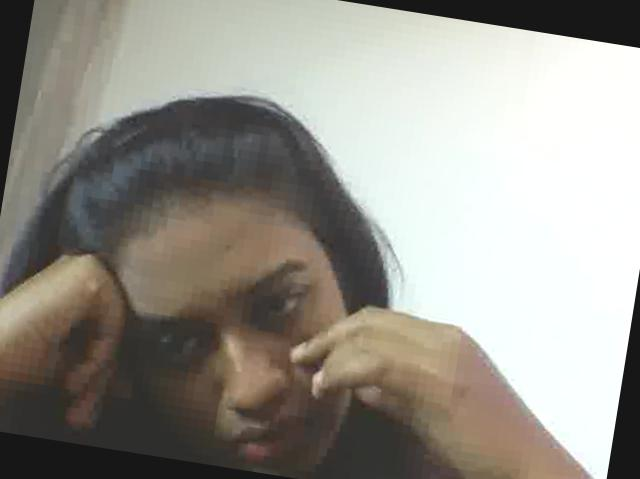bosan: (106, 176, 375, 479)
